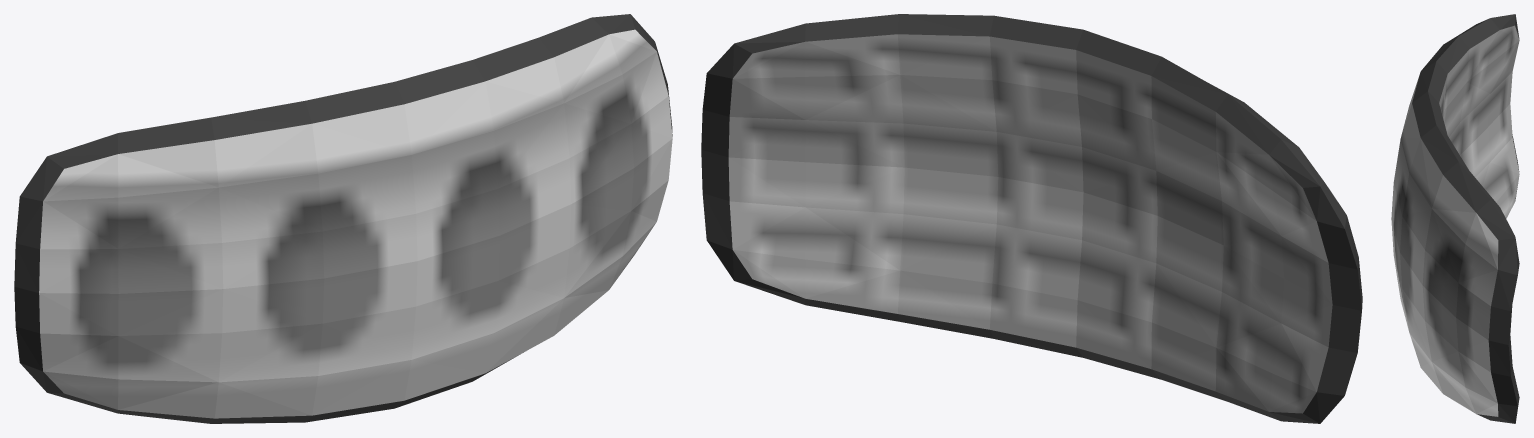
File: radar4.obj
3 renders of one model, left to right at view 1: azimuth 30°, elevation 25°; view 2: azimuth 150°, elevation 25°; view 3: azimuth 270°, elevation 25°, orthographic. The views are drawn at different scales.
Visible parts, largest first — view 1: ColobotMesh_1_ColobotMesh_; view 2: ColobotMesh_1_ColobotMesh_; view 3: ColobotMesh_1_ColobotMesh_.
Boxes of the visible parts, x1,y1,x2,y2 form: ColobotMesh_1_ColobotMesh_: (14,14,672,423); ColobotMesh_1_ColobotMesh_: (701,14,1362,423); ColobotMesh_1_ColobotMesh_: (1391,14,1519,423).
Size of the model in its own units: 8.28 by 3.93 by 1.78.
